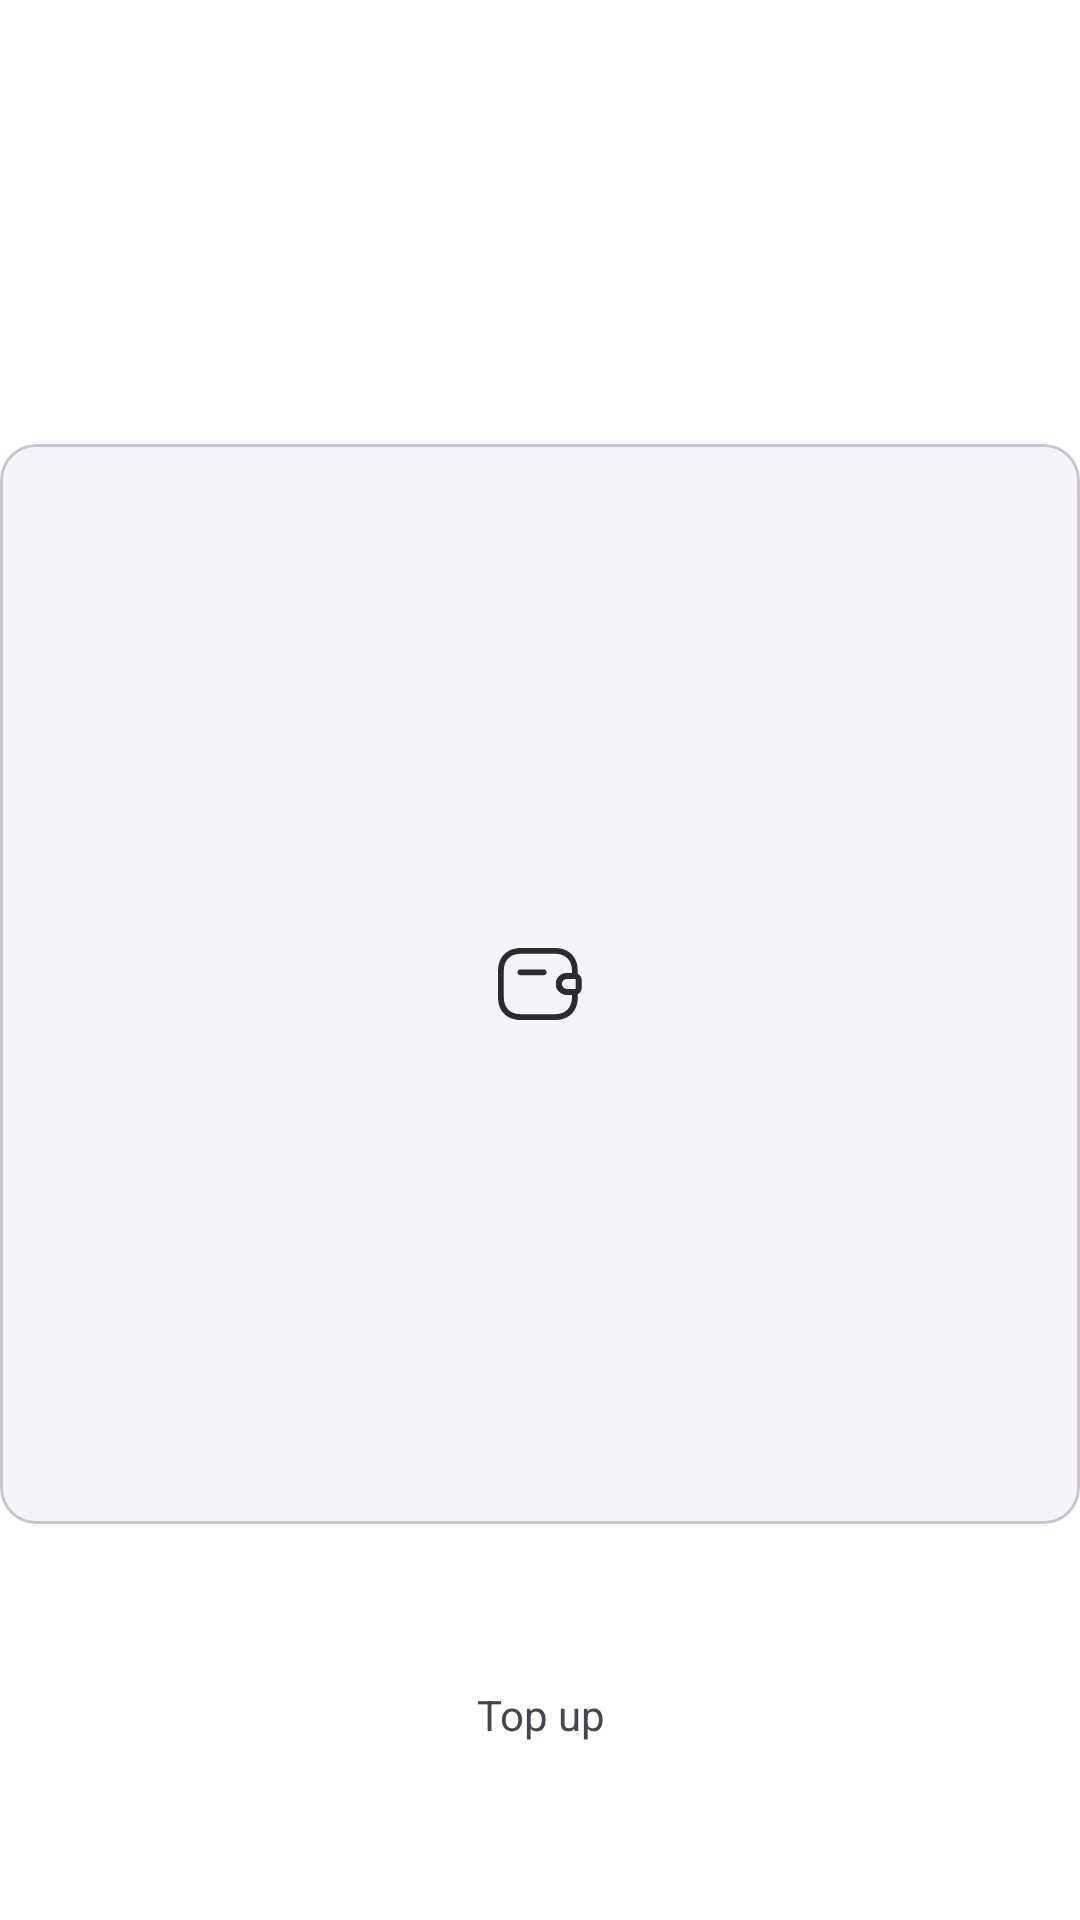

Locate icon controls on the screen. Image size 1080w x 1920h, boxes as (x1, y1, x2, y2).
wallet: (498, 948, 582, 1020)
